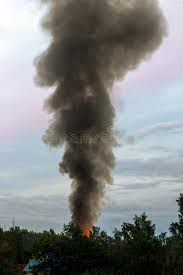smoke: (45, 1, 114, 227), (116, 1, 166, 80)
